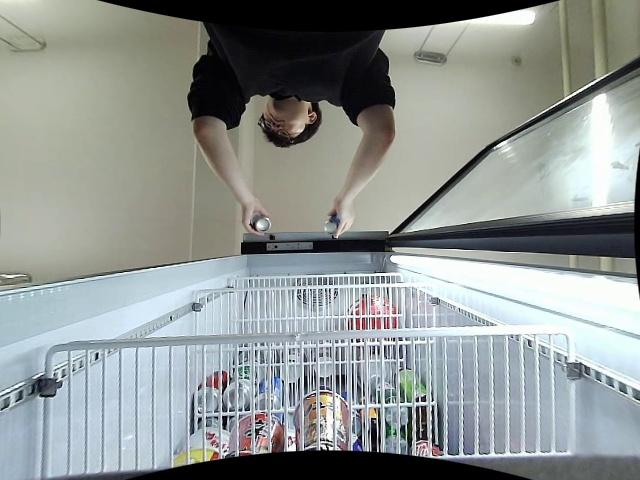00_hand: (327, 201, 355, 240), (241, 203, 269, 237)
15_letsbe: (251, 213, 272, 233), (325, 217, 341, 235)
